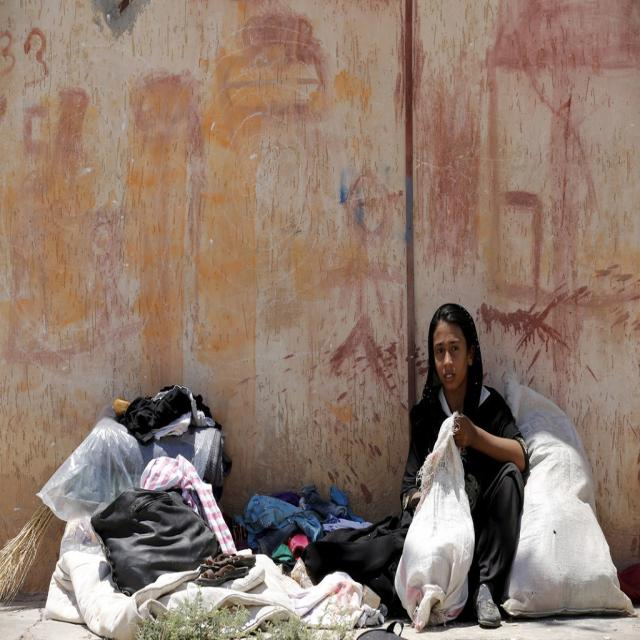loitering: (393, 287, 533, 636)
